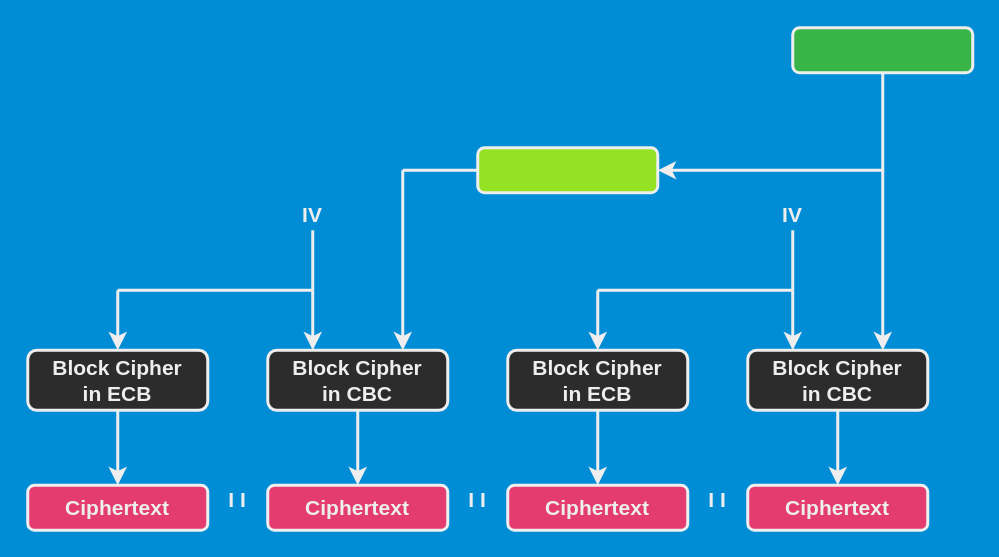
Image size: 999x557. Some labels were removed from this diagram. Each missing label, with the centre of its shape:
HMAC-SHA256: the point at 567,170
Plaintext: the point at 882,50
